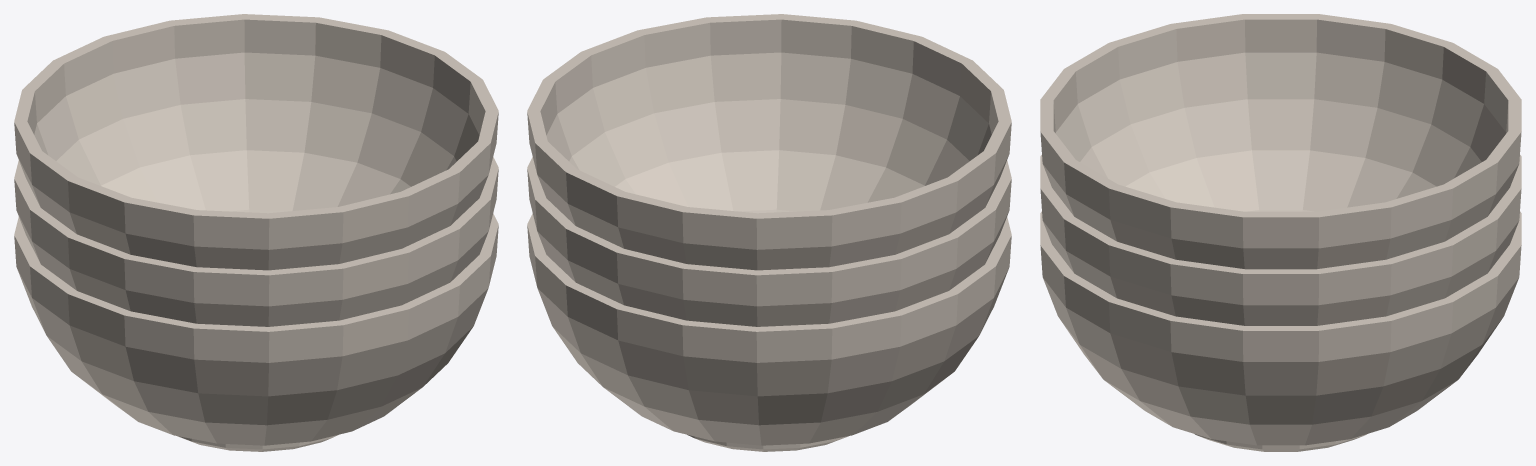
File: SM_Cook_BowlStack_01.obj
The picture shows the model from 3 angles, left to right: view 1: azimuth 30°, elevation 25°; view 2: azimuth 150°, elevation 25°; view 3: azimuth 270°, elevation 25°; orthographic projection.
Parts seen in each view (by area): view 1: SM_Cook_BowlStack_01; view 2: SM_Cook_BowlStack_01; view 3: SM_Cook_BowlStack_01.
Part boxes in pixels (x1,y1,x2,y2): SM_Cook_BowlStack_01: [14, 14, 498, 451]; SM_Cook_BowlStack_01: [527, 14, 1011, 451]; SM_Cook_BowlStack_01: [1040, 14, 1521, 451].
Bounding box in the file's own units: 0.2173 × 0.146 × 0.2173.
Materials: 1 (1 with a texture image).
